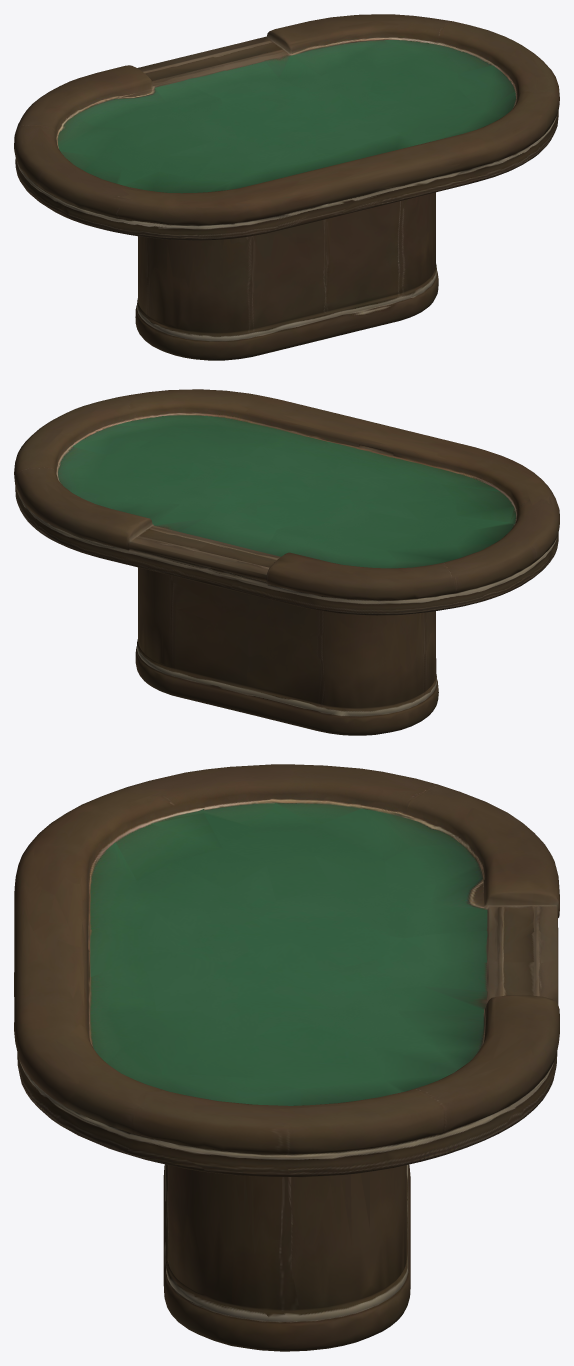
The model's file is table-8k.glb.
The picture shows the model from 3 angles, top to bottom: view 1: azimuth 30°, elevation 25°; view 2: azimuth 150°, elevation 25°; view 3: azimuth 270°, elevation 25°; orthographic projection. The views are drawn at different scales.
Visible parts, largest first — view 1: tripo_node_e1aad945-790a-4445-aa98-43448119566a; view 2: tripo_node_e1aad945-790a-4445-aa98-43448119566a; view 3: tripo_node_e1aad945-790a-4445-aa98-43448119566a.
Part boxes in pixels (x1,y1,x2,y2): tripo_node_e1aad945-790a-4445-aa98-43448119566a: (14, 14, 559, 360); tripo_node_e1aad945-790a-4445-aa98-43448119566a: (14, 389, 559, 735); tripo_node_e1aad945-790a-4445-aa98-43448119566a: (14, 764, 559, 1351).
Bounding box in the file's own units: 1 × 0.39 × 0.6245.
1 material, 1 textured.
